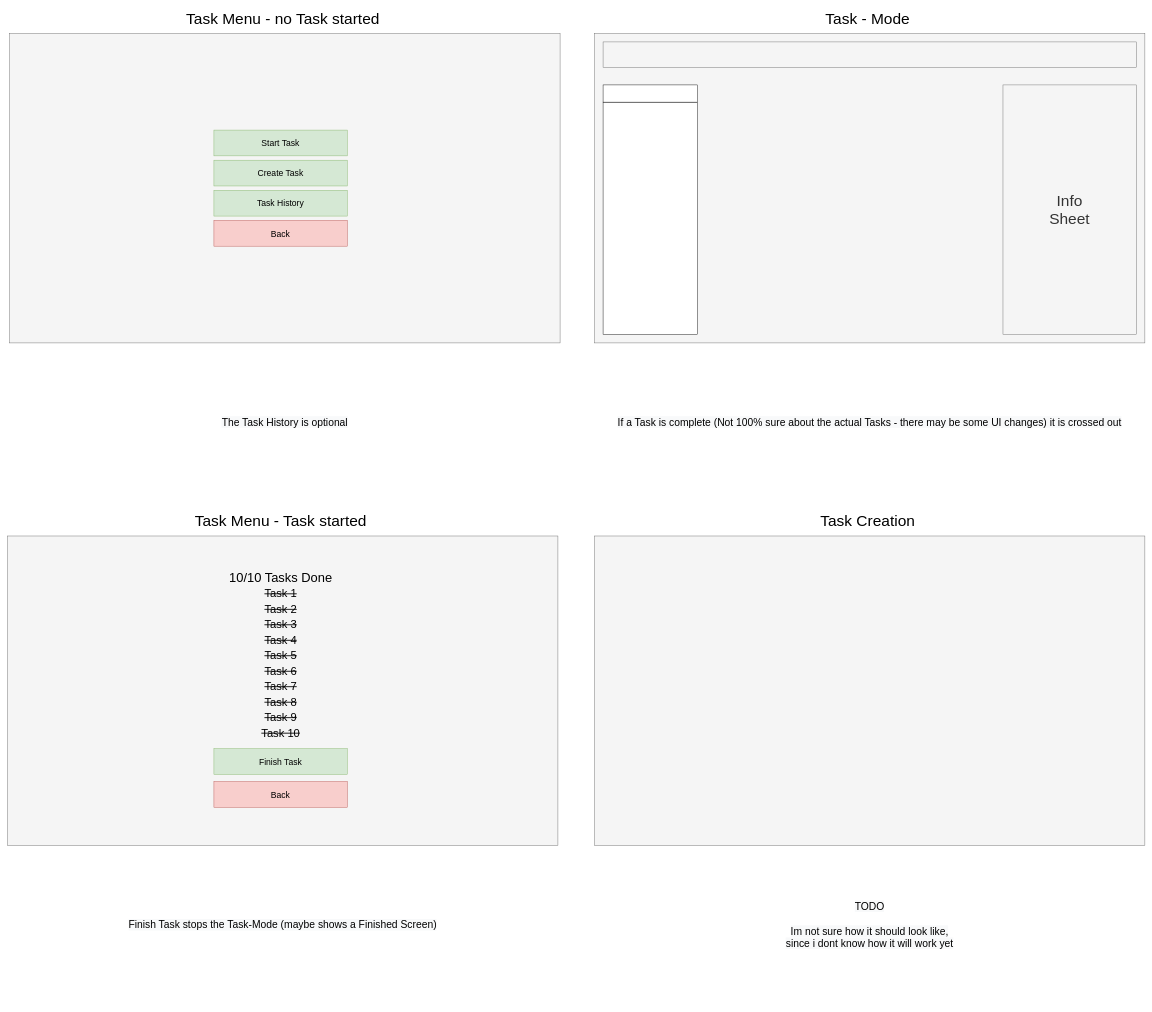
This 1152x1012 diagram has some shape labels left out. Here are the shapes that lost their labels. From the top down, the centre of each, then its label:
(869,54): Buttons
(650,93): 1/3 Tasks Done
(650,218): Create Atom 1 Create Molecule 1 Read Info for Atom 1
